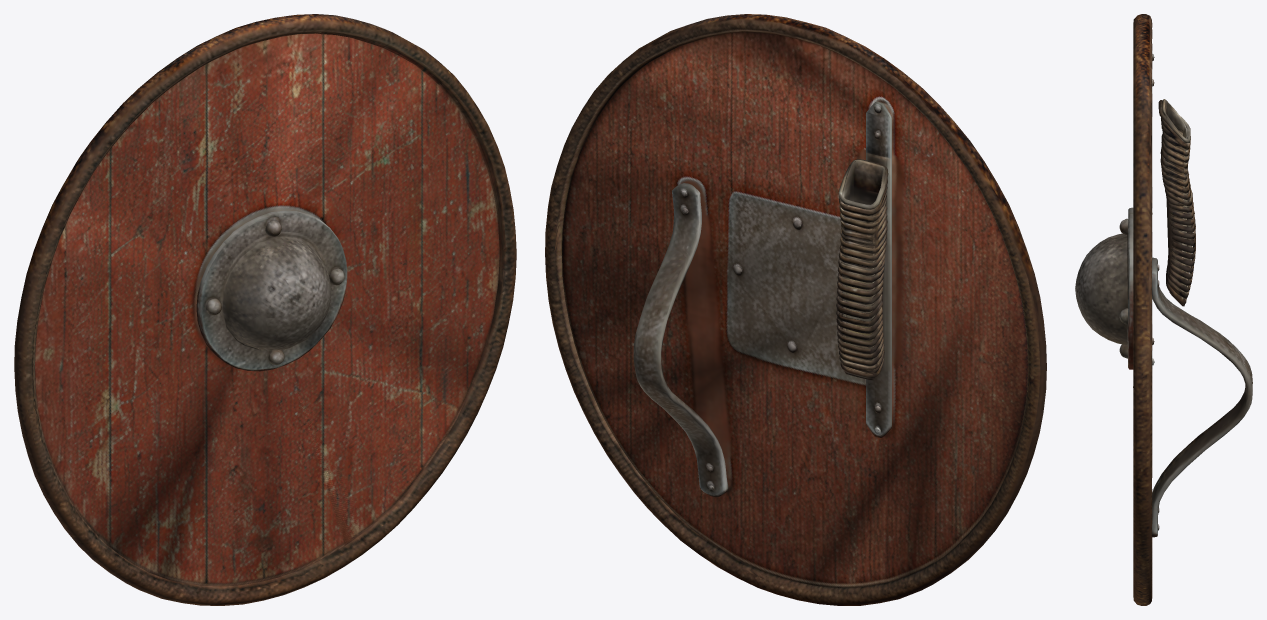
Rendered from shield.glb.
The picture shows the model from 3 angles, left to right: view 1: azimuth 30°, elevation 25°; view 2: azimuth 150°, elevation 25°; view 3: azimuth 270°, elevation 25°; orthographic projection. The views are drawn at different scales.
Visible parts, largest first — view 1: shield; view 2: shield; view 3: shield.
Part boxes in pixels (<box>): shield: <box>14,14,516,605</box>; shield: <box>545,14,1046,605</box>; shield: <box>1075,14,1252,605</box>.
Size of the model in its own units: 0.6974 by 0.7711 by 0.2276.
Materials: 1 (1 with a texture image).
